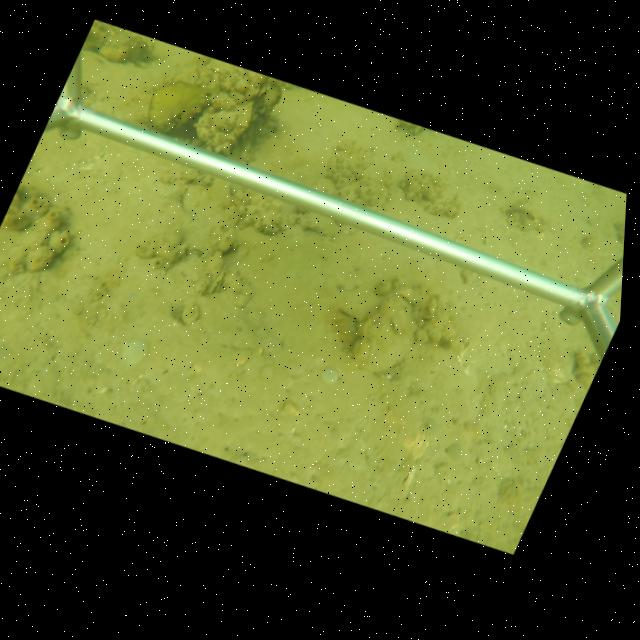Oyster-Closed: (204, 268, 228, 295)
Oyster-Indeterminate: (351, 294, 423, 376), (194, 100, 254, 154)
